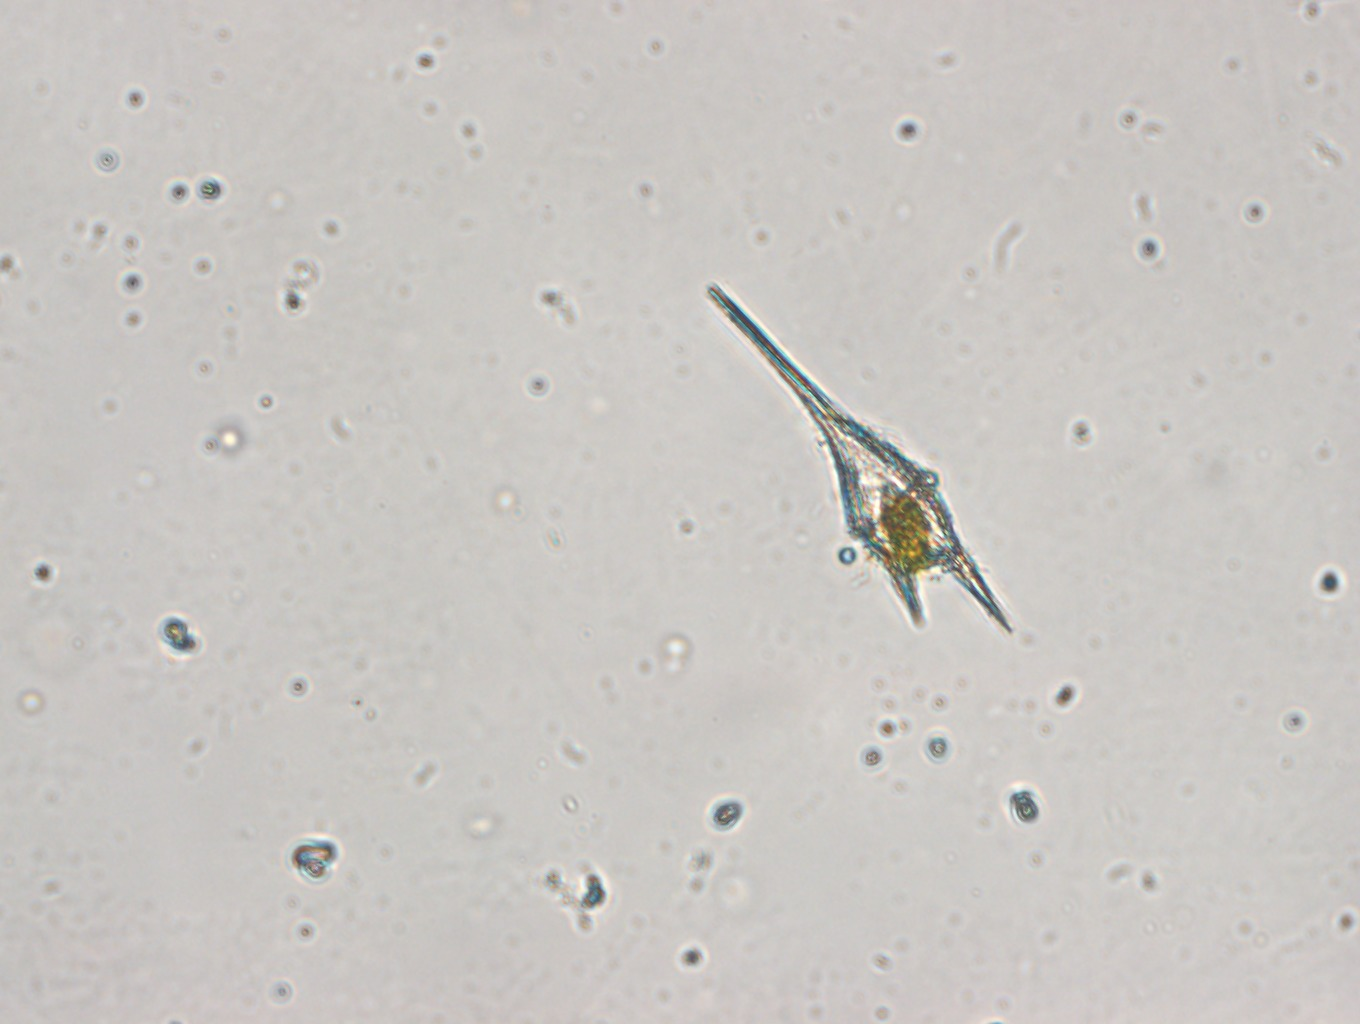ceratium furca: (700, 281, 1019, 645)
